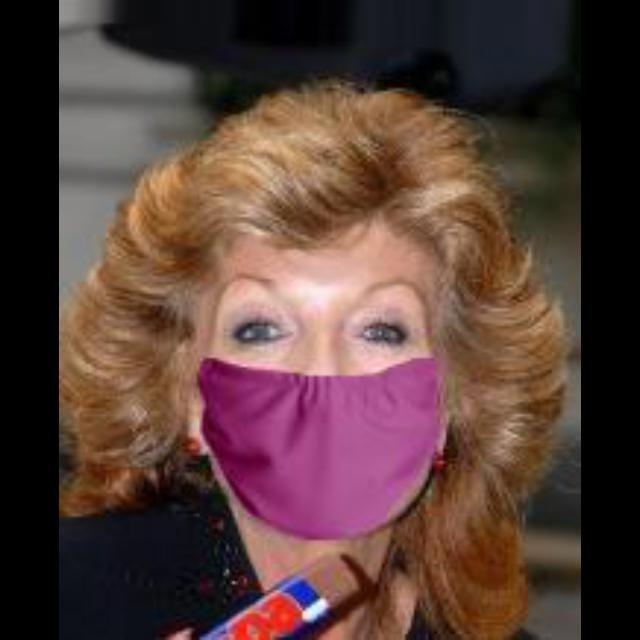suspicion: (134, 120, 518, 508)
